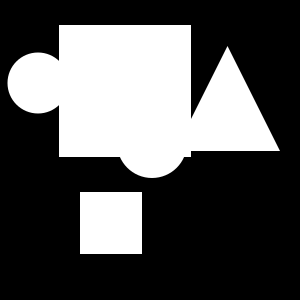circle: (59, 25, 191, 157), (80, 192, 142, 254)
rectangle: (117, 108, 187, 178), (8, 52, 68, 114)
triangle: (175, 46, 280, 151)
